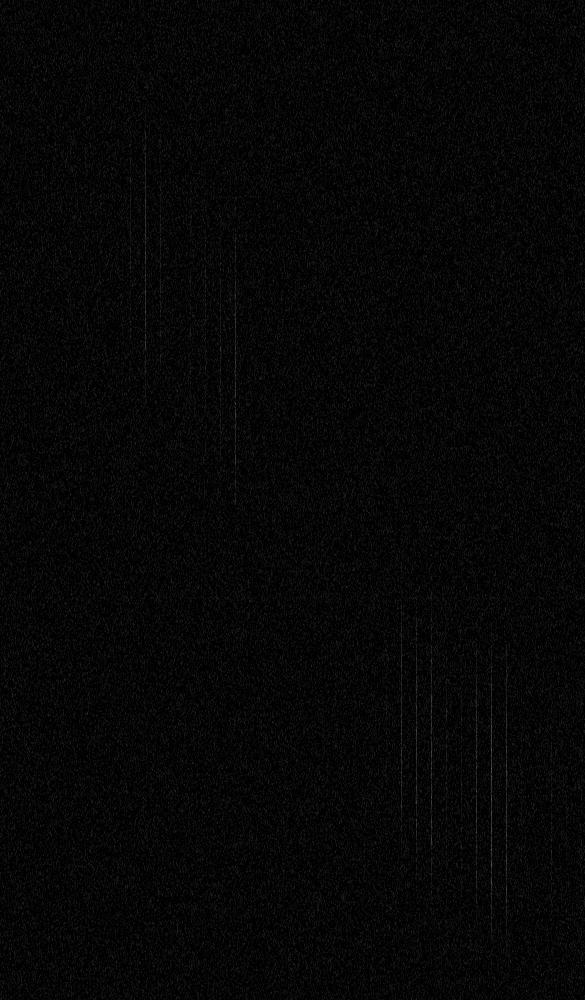signal: (0, 0, 584, 999)
